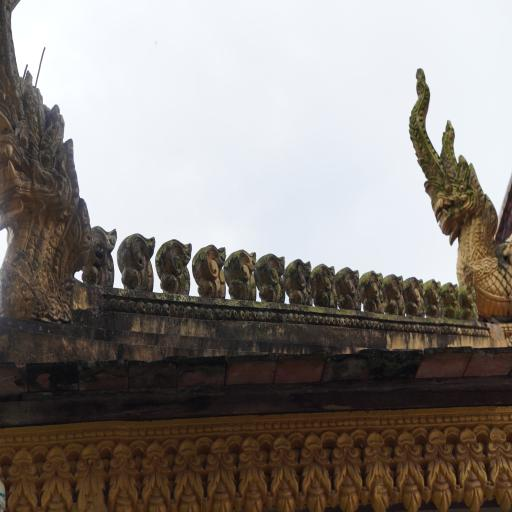la: (456, 425, 488, 512), (332, 432, 365, 512), (299, 433, 331, 512), (426, 428, 456, 512), (117, 229, 156, 293), (268, 434, 300, 512), (394, 431, 424, 512), (364, 432, 394, 512), (4, 447, 40, 512), (204, 439, 236, 512), (73, 444, 107, 512), (238, 435, 268, 512), (40, 444, 73, 512), (108, 445, 141, 512), (175, 441, 204, 512), (142, 444, 172, 512), (156, 236, 191, 294), (489, 424, 512, 512), (194, 240, 227, 296), (226, 246, 258, 300), (88, 223, 114, 289), (255, 250, 285, 302), (285, 254, 312, 306), (312, 261, 338, 306), (360, 268, 386, 311), (406, 272, 428, 318), (337, 266, 361, 308), (385, 273, 406, 313), (424, 276, 444, 316), (458, 280, 479, 318), (443, 280, 459, 319)
ran: (0, 4, 87, 313), (407, 64, 512, 319)
